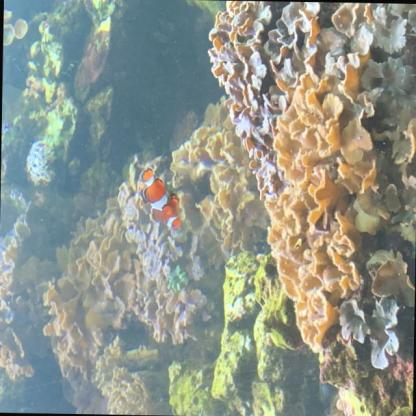fish: (138, 166, 182, 230)
